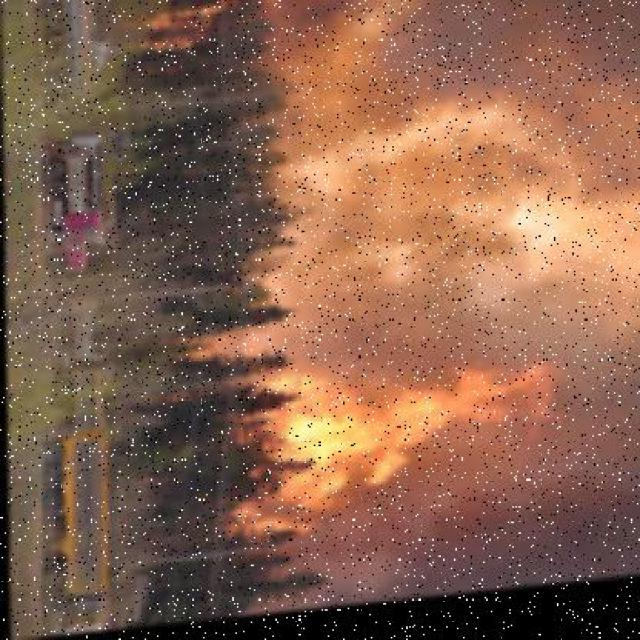fire: (281, 84, 639, 366), (250, 345, 550, 554), (99, 1, 355, 38)
